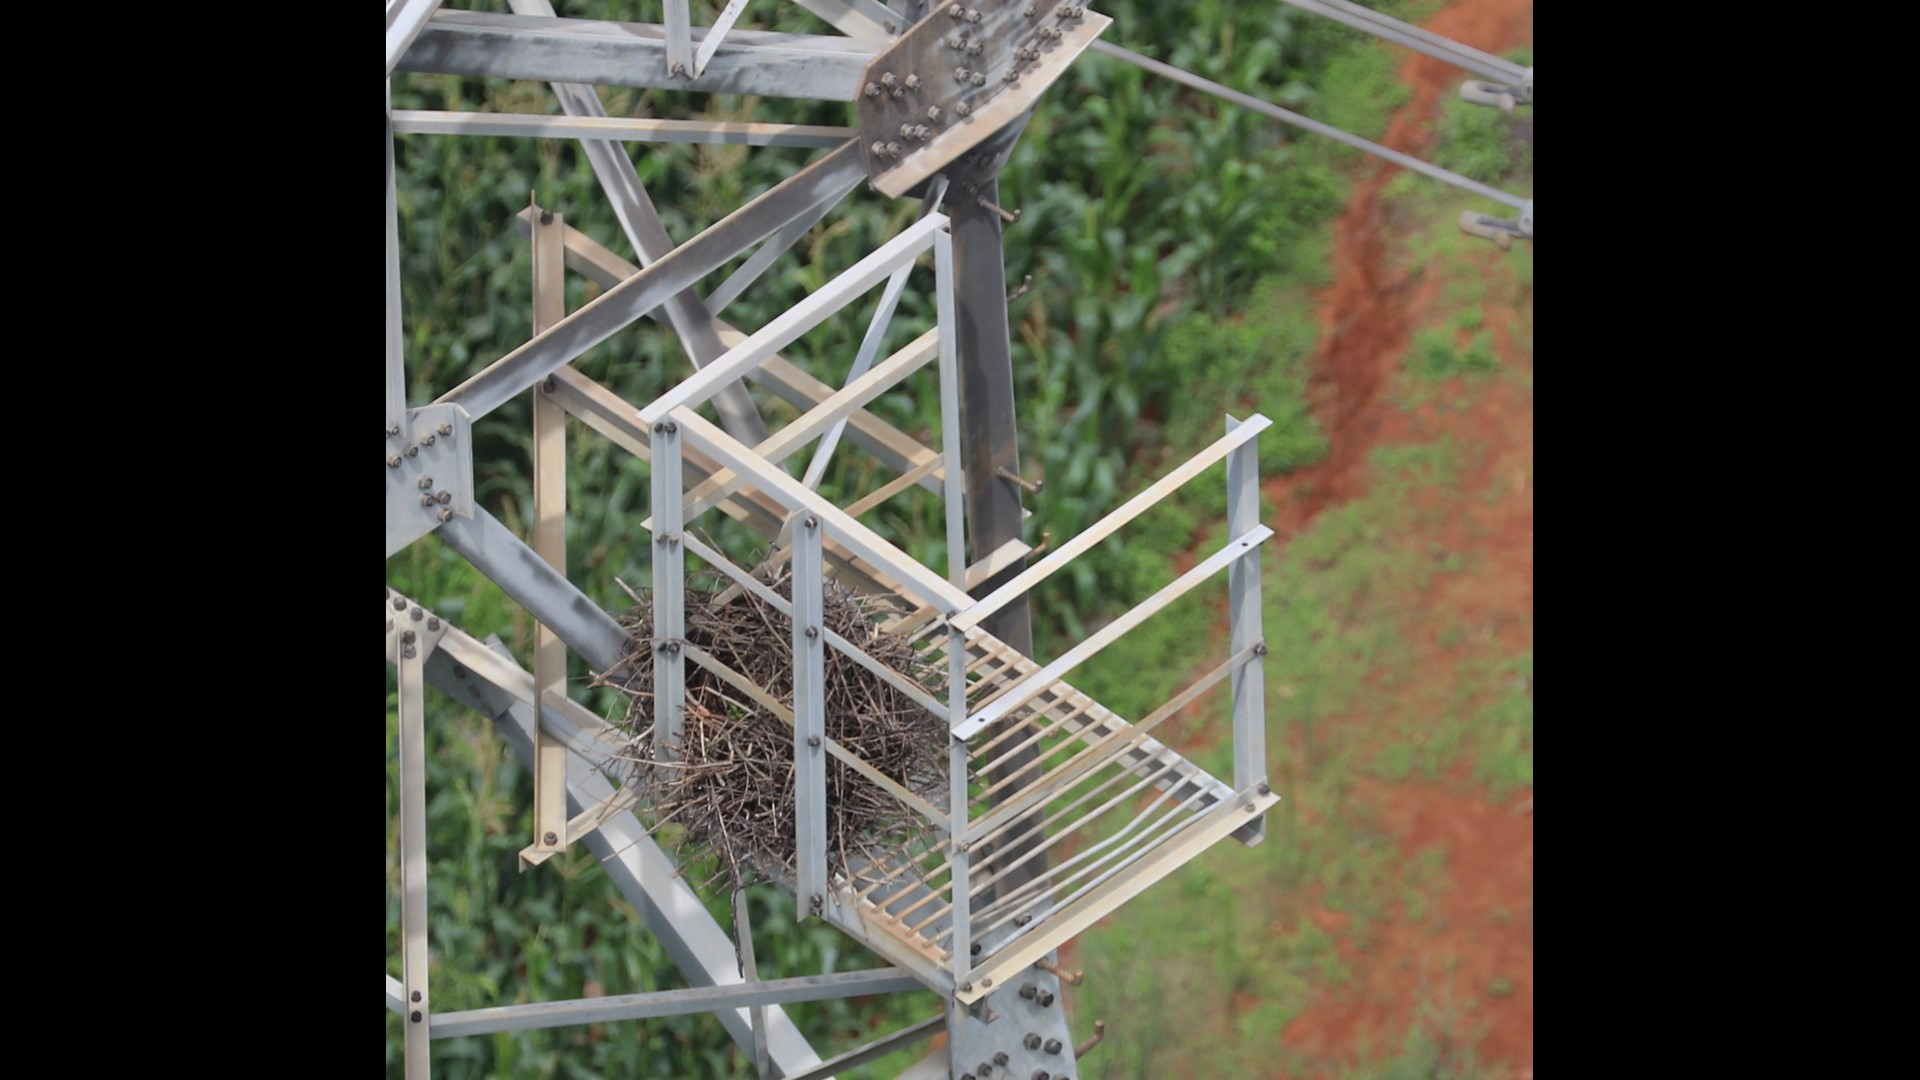niaowo: (591, 562, 959, 889)
